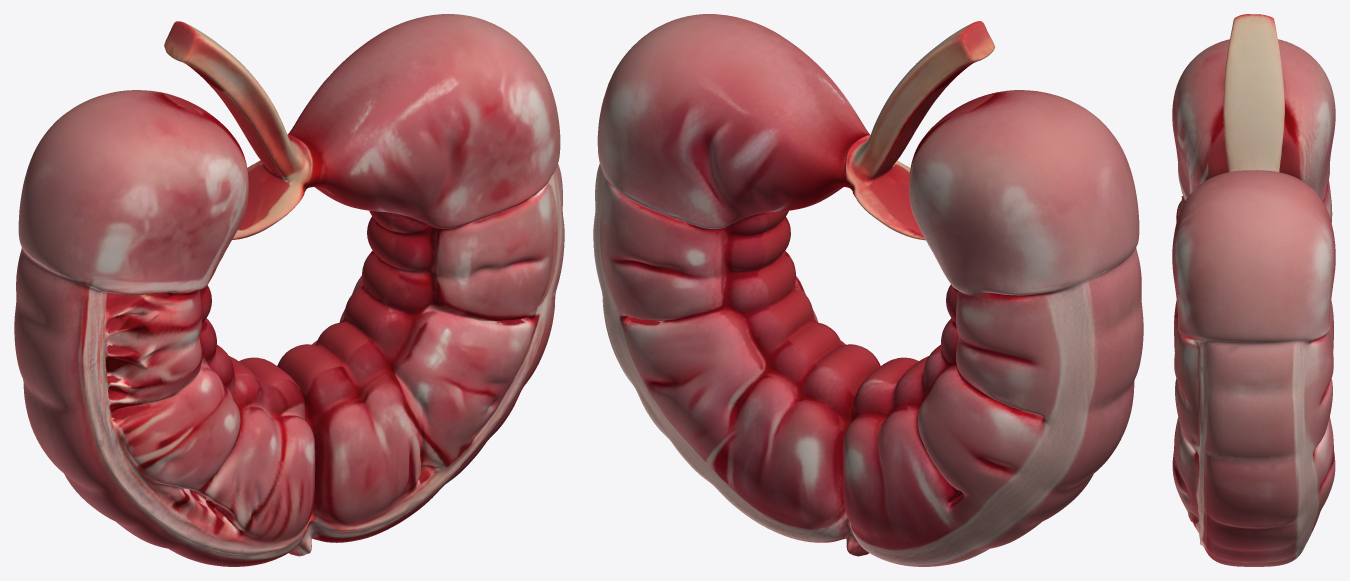
Rendered from vet_v2_organ_cat_intestines.glb.
3 renders of one model, left to right at view 1: azimuth 30°, elevation 25°; view 2: azimuth 150°, elevation 25°; view 3: azimuth 270°, elevation 25°, orthographic. The views are drawn at different scales.
Visible parts, largest first — view 1: model; view 2: model; view 3: model.
Part boxes in pixels (x1,y1,x2,y2): model: [14, 14, 564, 566]; model: [593, 14, 1143, 566]; model: [1172, 14, 1335, 566].
Size of the model in its own units: 1.87 by 1.89 by 0.5759.
1 material, 1 textured.
